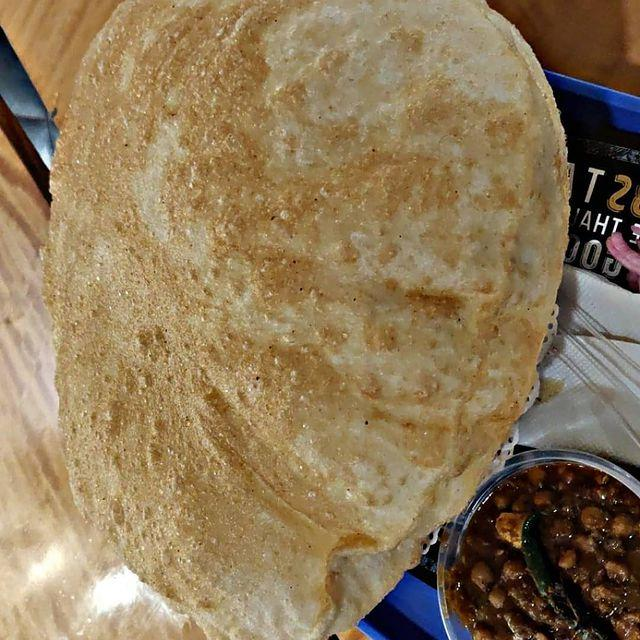Chole: (463, 464, 635, 638)
